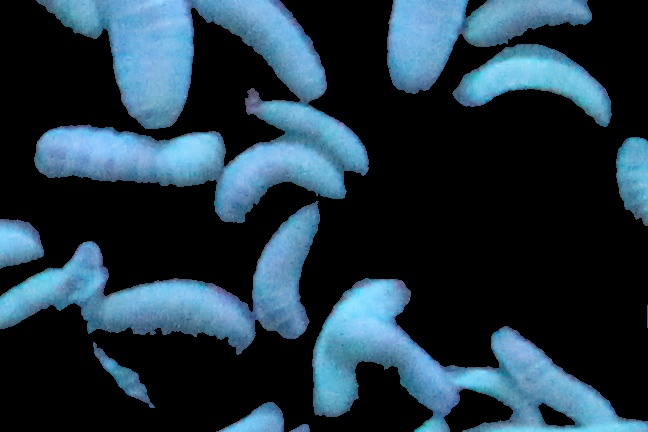larvae: (315, 278, 409, 422), (188, 1, 325, 94), (33, 129, 218, 195), (487, 326, 615, 417), (454, 47, 607, 122), (103, 278, 252, 354), (105, 1, 188, 129), (218, 152, 343, 229), (252, 202, 321, 339), (355, 316, 454, 407), (383, 1, 464, 95), (263, 95, 369, 164), (455, 1, 591, 45), (1, 256, 65, 335), (454, 356, 529, 408), (30, 1, 107, 44), (612, 134, 648, 224)
